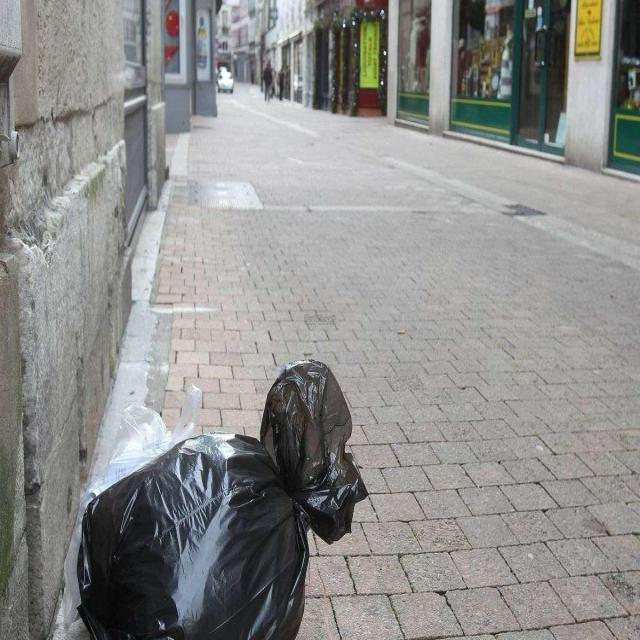garbage: (57, 352, 375, 640)
